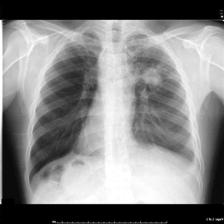tuberculosis: (22, 25, 208, 192)
